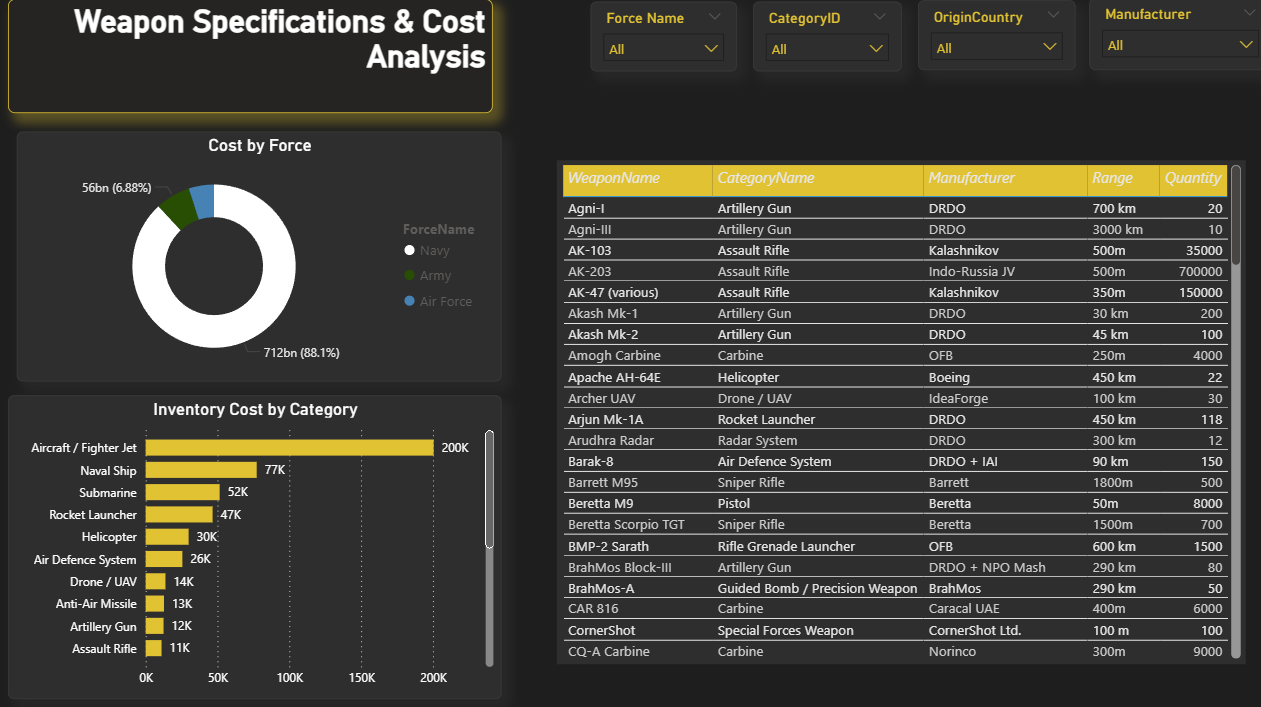

The page's visual inventory and layout, read from the dashboard file:
{"tool":"powerbi","page":{"name":"Page 2","canvas":[1280,720],"ordinal":1},"visuals":[{"type":"textbox","title":"Weapon Specifications & Cost Analysis","box":[10,10,482.7,113.2],"z":0},{"type":"slicer","fields":{"Values":["Forcetable.ForceName"]},"box":[589.6,12.4,145.5,69.7],"z":1000},{"type":"slicer","fields":{"Values":["WeaponMaster.CategoryID"]},"box":[751.4,12.4,148,69.7],"z":2000},{"type":"slicer","fields":{"Values":["OriginCountry.OriginCountry"]},"box":[915.6,11.2,156.7,69.7],"z":3000},{"type":"slicer","fields":{"Values":["WeaponMaster.Manufacturer"]},"box":[1086,8.7,181.6,72.1],"z":4000},{"type":"donutChart","title":"Cost by Force","fields":{"Y":["Sum(WeaponMaster.Cost(INR))"],"Category":["Forcetable.ForceName"]},"box":[18.7,141.8,482.7,248.8],"z":5000},{"type":"clusteredBarChart","title":"Inventory Cost  by Category","fields":{"Category":["WeaponCategory.CategoryName"],"Y":["WeaponMaster.Total Inventory Cost (Cr)"]},"box":[10,404.3,491.4,302.3],"z":6000},{"type":"tableEx","fields":{"Values":["WeaponMaster.WeaponName","WeaponCategory.CategoryName","WeaponMaster.Manufacturer","WeaponMaster.Range","WeaponMaster.Quantity"]},"box":[546.1,167.9,716.5,501.3],"z":7000}]}

Visuals, with their boxes in screenshot pixels (x1, y1, x2, y2), scaled from the page's 1280x720 canvas onto the 1261x707 screenshot:
"Weapon Specifications & Cost Analysis" textbox: bbox=[10, 10, 485, 121]
slicer - Forcetable.ForceName: bbox=[581, 12, 724, 81]
slicer - WeaponMaster.CategoryID: bbox=[740, 12, 886, 81]
slicer - OriginCountry.OriginCountry: bbox=[902, 11, 1056, 79]
slicer - WeaponMaster.Manufacturer: bbox=[1070, 9, 1249, 79]
"Cost by Force" donutChart: bbox=[18, 139, 494, 384]
"Inventory Cost  by Category" clusteredBarChart: bbox=[10, 397, 494, 694]
tableEx - WeaponMaster.WeaponName x WeaponCategory.CategoryName: bbox=[538, 165, 1244, 657]
